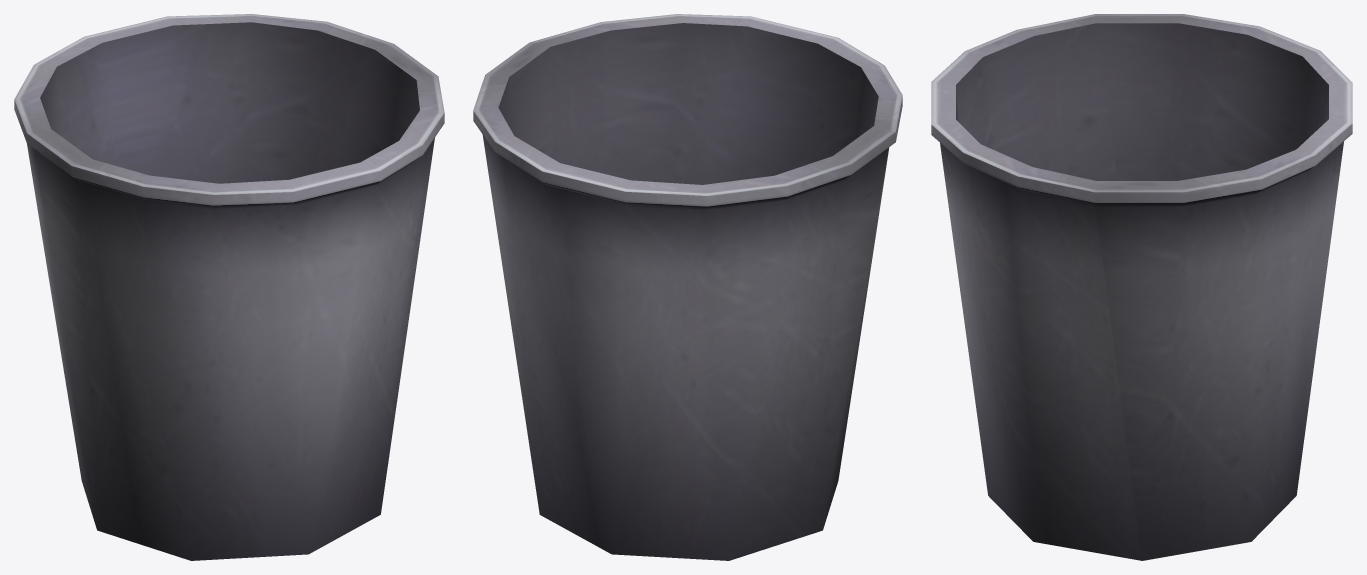
Rendered from G_XiuXiShi_01_lajitong_01.FBX.
3 views of the same model, side by side, from view 1: azimuth 30°, elevation 25°; view 2: azimuth 150°, elevation 25°; view 3: azimuth 270°, elevation 25° (orthographic).
Visible parts, largest first — view 1: XiuXiShi_lajitong; view 2: XiuXiShi_lajitong; view 3: XiuXiShi_lajitong.
Part boxes in pixels (left/top/right/bottom): XiuXiShi_lajitong: left=14, top=14, right=444, bottom=560; XiuXiShi_lajitong: left=473, top=14, right=902, bottom=560; XiuXiShi_lajitong: left=931, top=14, right=1352, bottom=560.
Size of the model in its own units: 131 by 134 by 130.
